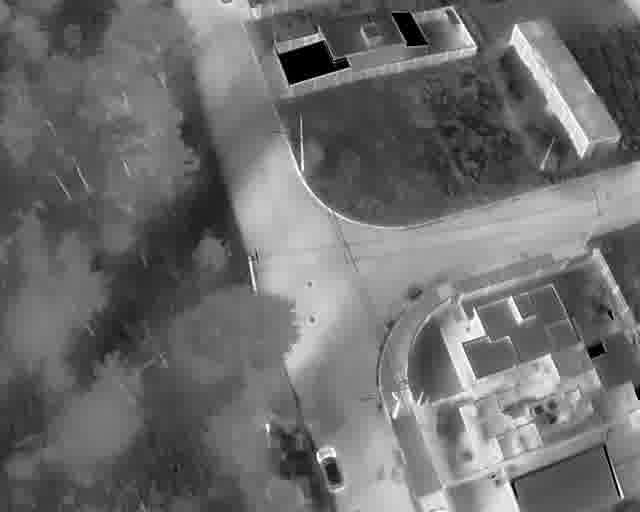car: (314, 445, 346, 493)
